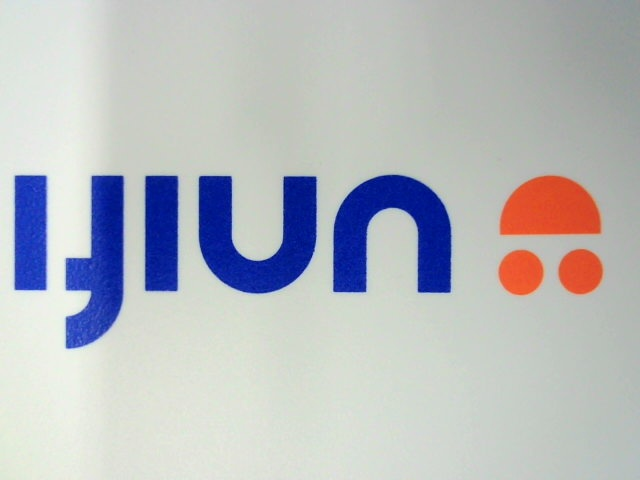BN_unifi: (4, 158, 604, 358)
